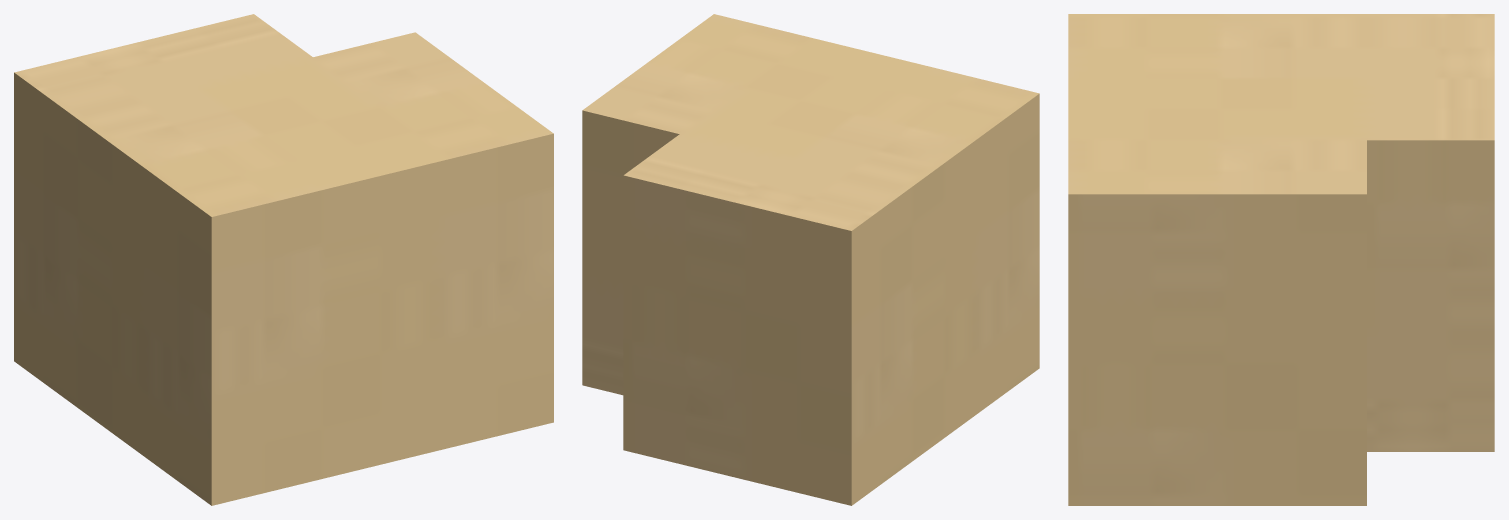
Rendered from CabinetGCorner02.glb.
3 renders of one model, left to right at view 1: azimuth 30°, elevation 25°; view 2: azimuth 150°, elevation 25°; view 3: azimuth 270°, elevation 25°, orthographic. The views are drawn at different scales.
Parts seen in each view (by area): view 1: CabinetGCorner02_model; view 2: CabinetGCorner02_model; view 3: CabinetGCorner02_model.
Boxes of the visible parts, x1,y1,x2,y2 form: CabinetGCorner02_model: [14, 14, 553, 505]; CabinetGCorner02_model: [582, 14, 1039, 505]; CabinetGCorner02_model: [1068, 14, 1494, 505].
Bounding box in the file's own units: 1.72 × 1.39 × 1.72.
1 material, 1 textured.
